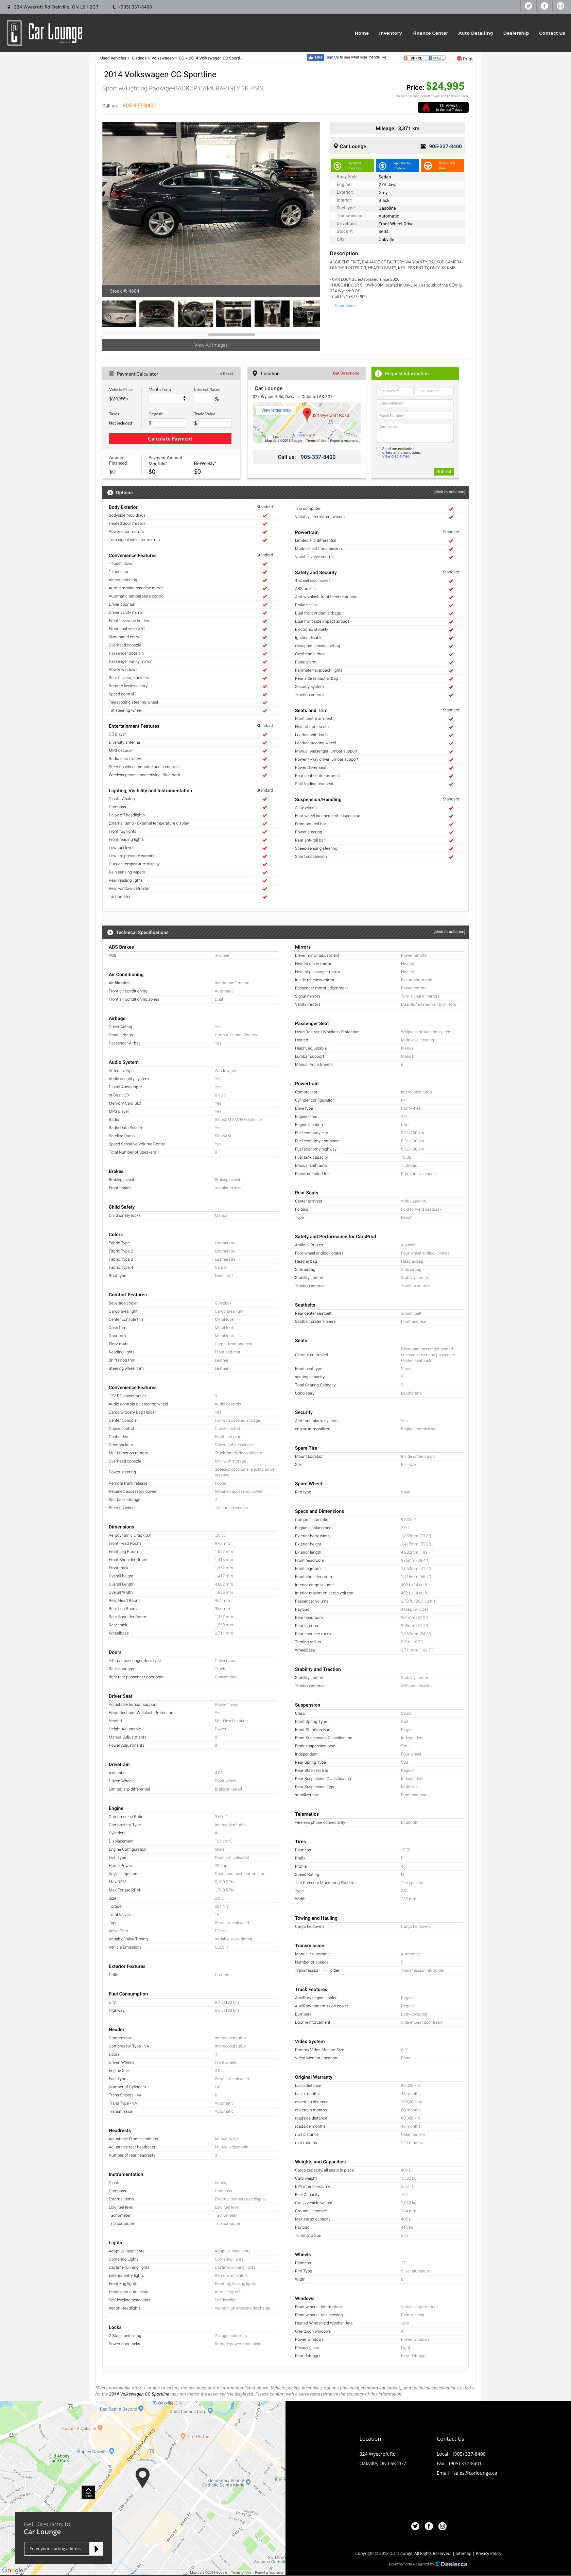car: (305, 195, 322, 210)
